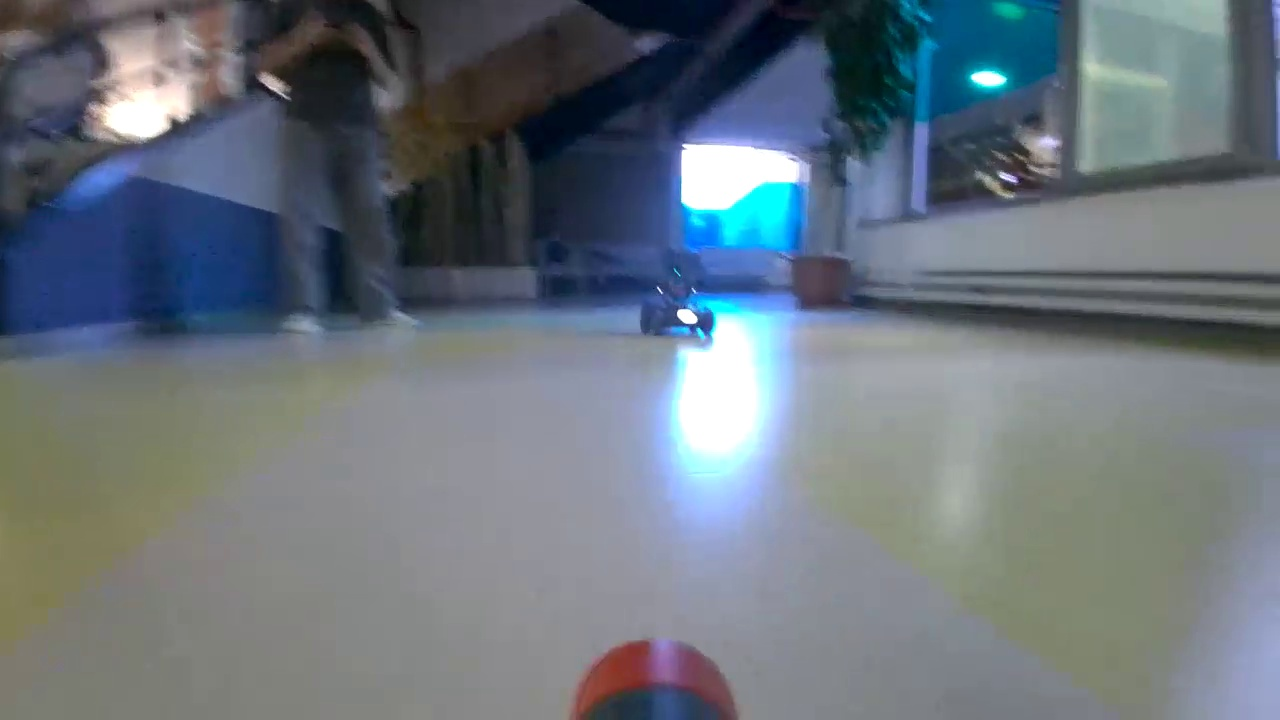robot: (648, 266, 722, 336)
